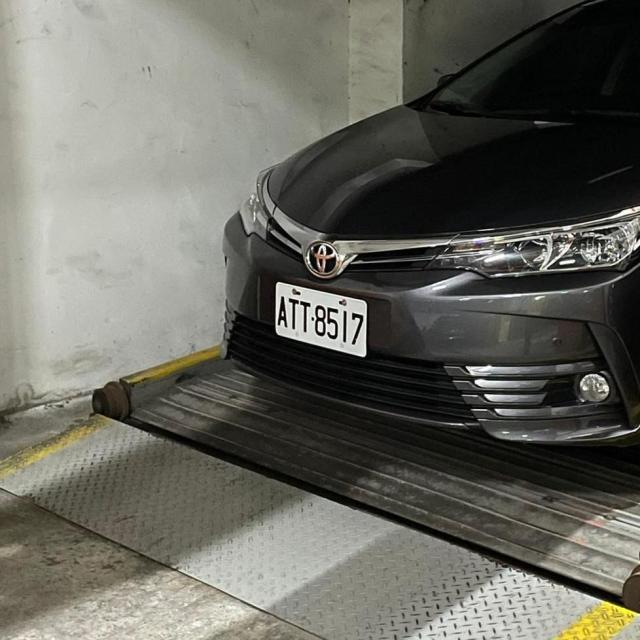W: (268, 275, 375, 364)
